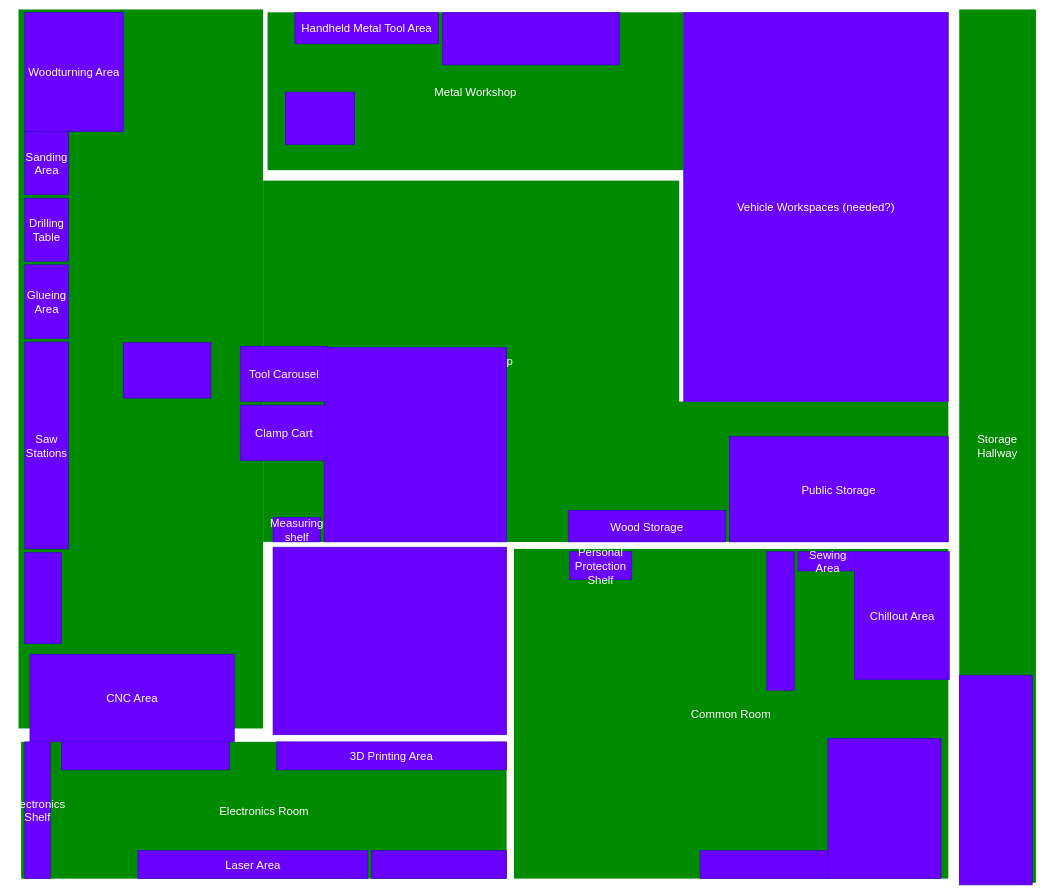
This 1046x895 diagram has some shape labels left out. Each missing label, with the centre of its shape:
"Airbrush Area" goes at (x=439, y=864).
"CoMS Storage" goes at (x=995, y=780).
"Electronics Area" goes at (x=145, y=755).
"Grinding Table" goes at (x=320, y=118).
"Handheld Wood Tool Area" goes at (x=415, y=444).
"Hot Metal Area" goes at (x=530, y=38).
"Kitchen" goes at (x=884, y=808).
"Lockers" goes at (x=780, y=620).
"Office" goes at (x=389, y=641).
"Office Supply Shelf" goes at (x=765, y=864).
"Precious Plastics Area" goes at (x=42, y=598).
"Router Table" goes at (x=167, y=370).
